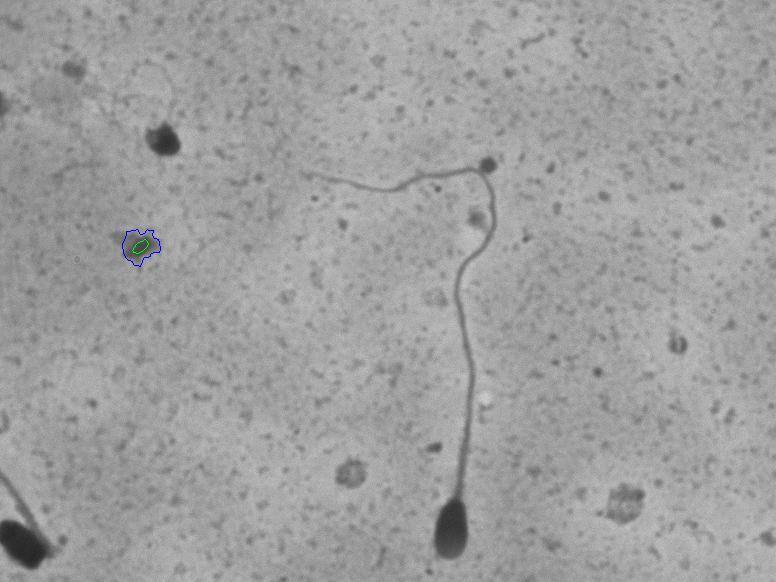Normal: (281, 119, 531, 571)
